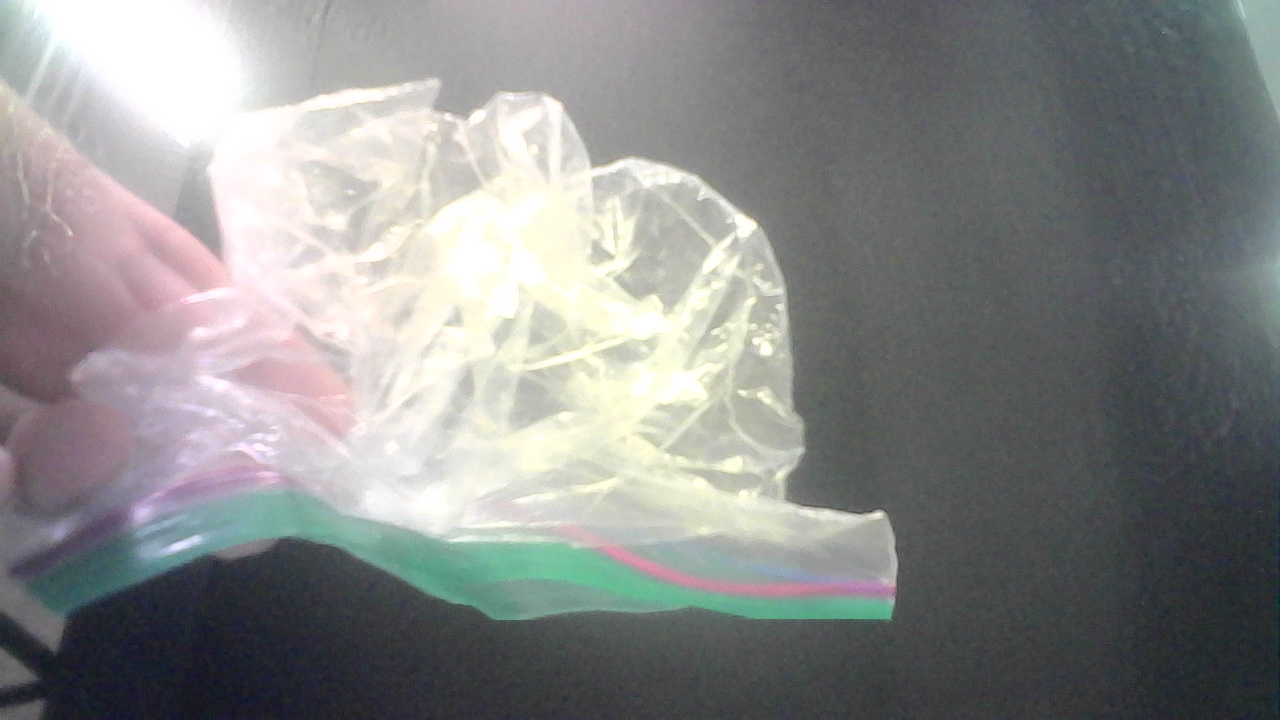Plastic_Recycling: (6, 84, 916, 630)
